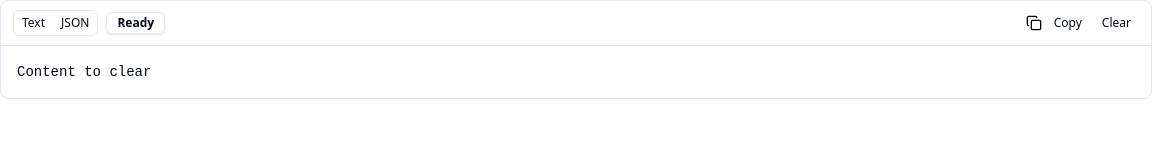
AIStreamOutput › Clear Action › should clear content when clear button is clicked
Click the button "Clear" at (1116, 23), box [1094,9,1139,37]
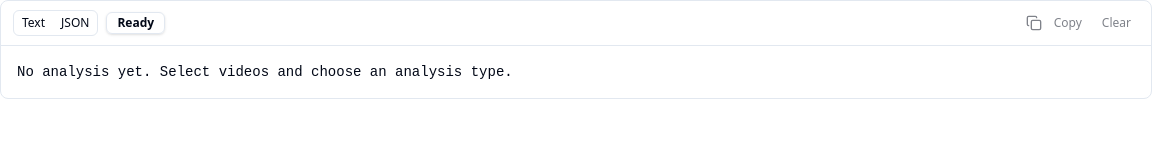
Expected: the text "No analysis yet. Select videos and choose an analysis type." is shown, [17,64,513,80]
